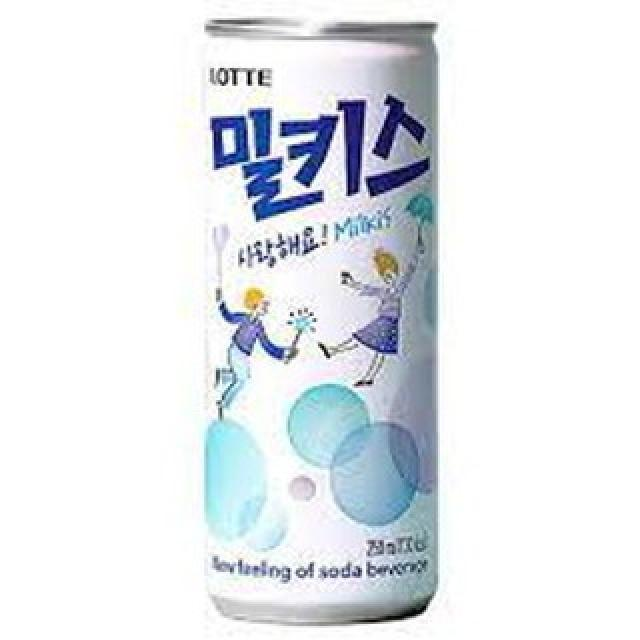recyclable: (188, 12, 460, 626)
